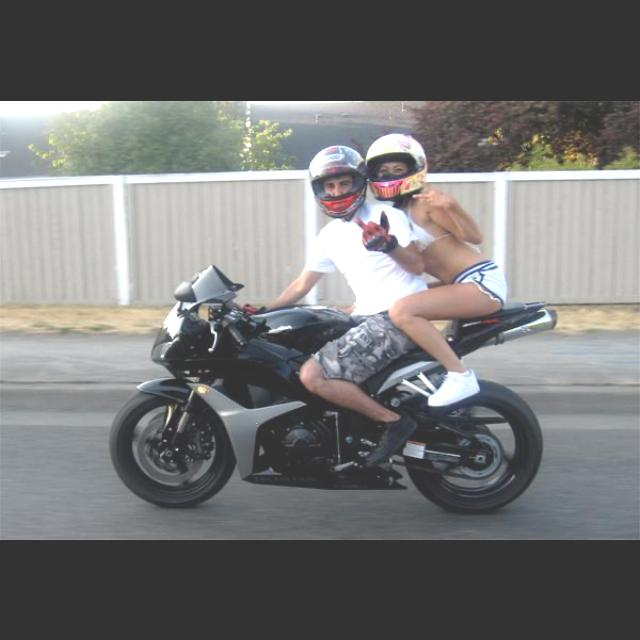With Helmet: (300, 144, 368, 218)
